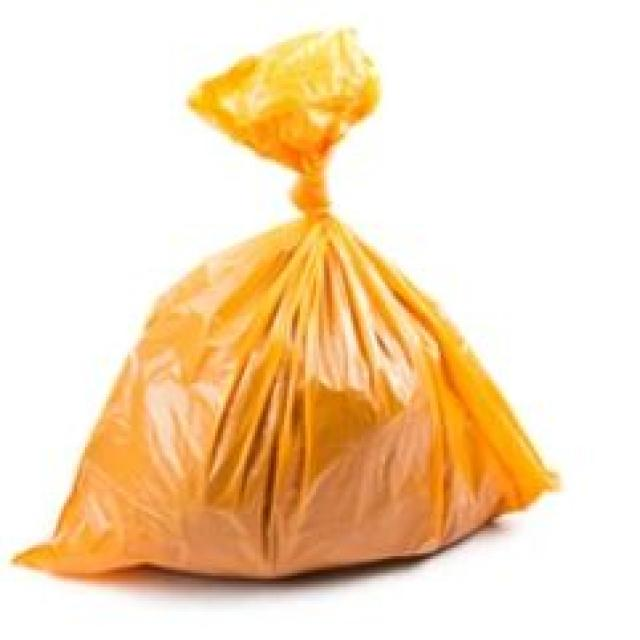general: (11, 22, 560, 582)
